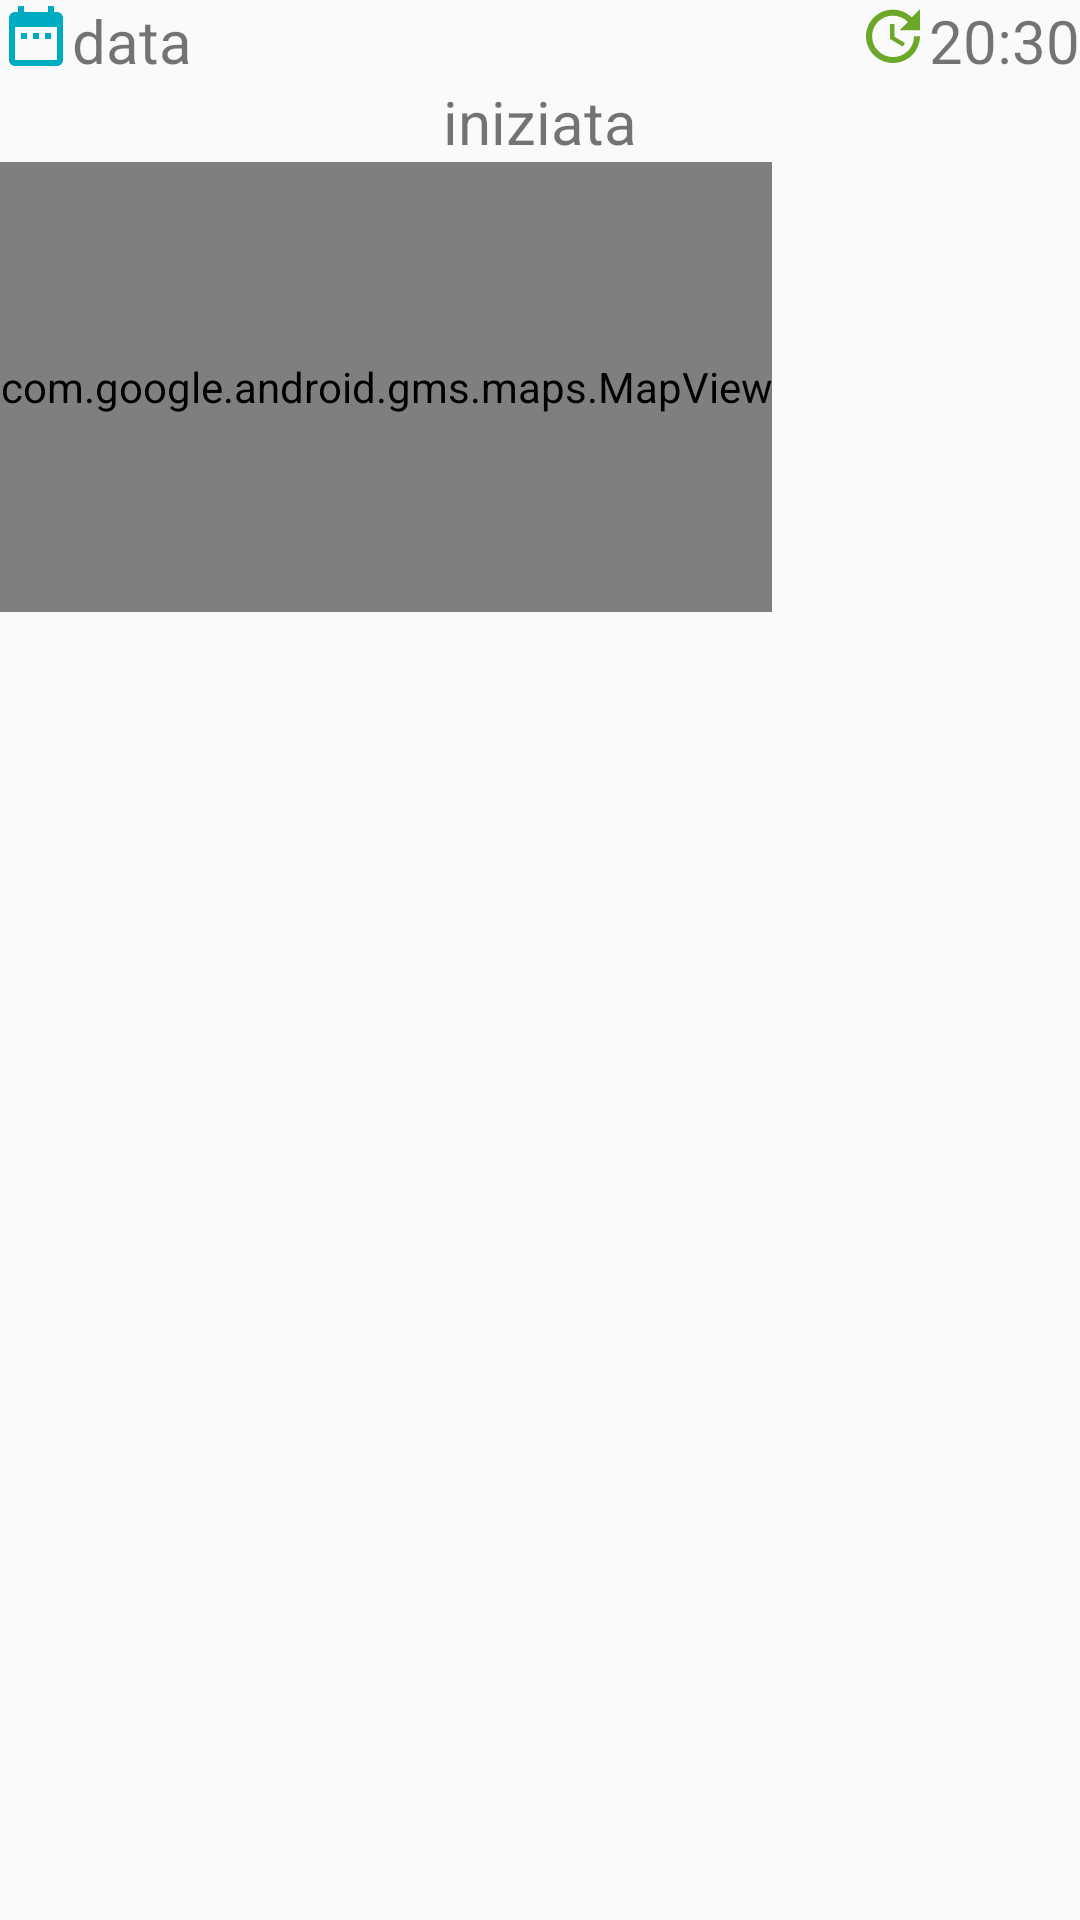

Icons on this 1080 x 1920 Android screen, each with its box as region(x1, y1, x2, y2):
datestart: region(9, 6, 63, 66)
starthour: region(866, 9, 920, 63)
